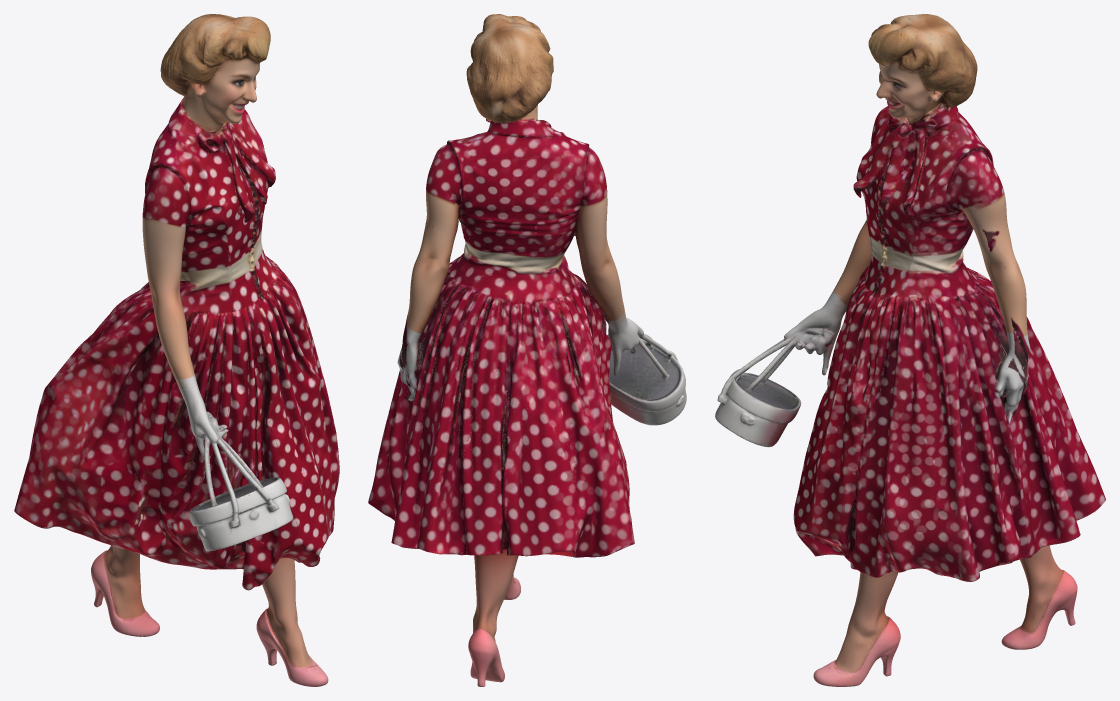
Rendered from Meshy_AI_Civilian_Woman_0129180551_texture.fbx.
3 renders of one model, left to right at view 1: azimuth 30°, elevation 25°; view 2: azimuth 150°, elevation 25°; view 3: azimuth 270°, elevation 25°, orthographic. The views are drawn at different scales.
Visible parts, largest first — view 1: Mesh_0; view 2: Mesh_0; view 3: Mesh_0.
Boxes of the visible parts, box(x1,y1,x2,y2) form: Mesh_0: box(14, 14, 339, 686); Mesh_0: box(368, 14, 686, 686); Mesh_0: box(715, 14, 1105, 686).
Bounding box in the file's own units: 93.23 × 200 × 111.
Materials: 1 (1 with a texture image).
